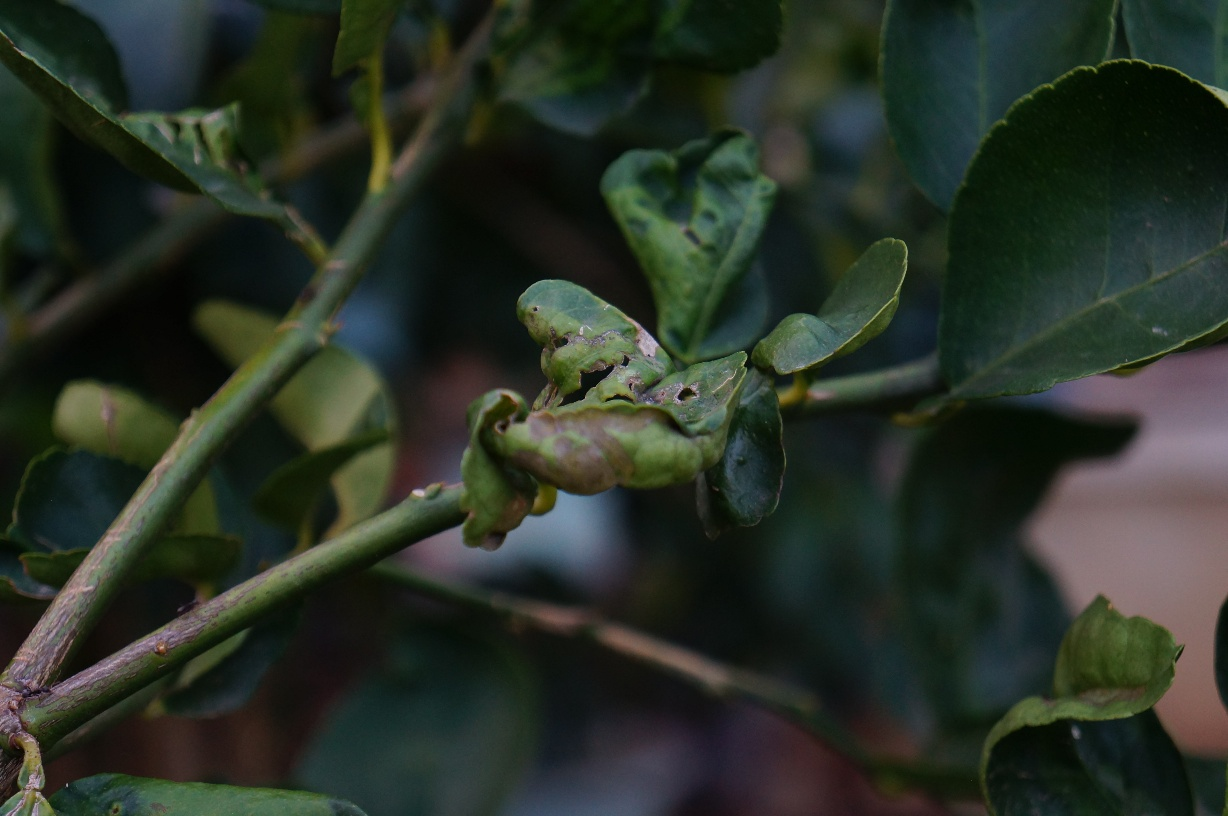damage: (508, 272, 754, 450)
